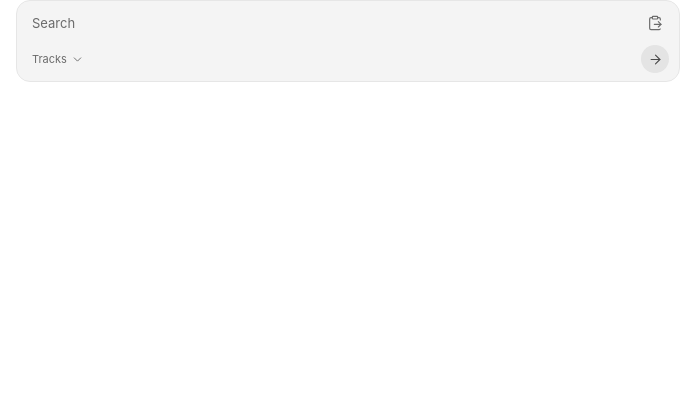
Test: DeezerPage searching › shows the empty state when nothing is found
Type "zzz" into the field named "Search query". click: point(332, 23)
box: [32,9,633,37]
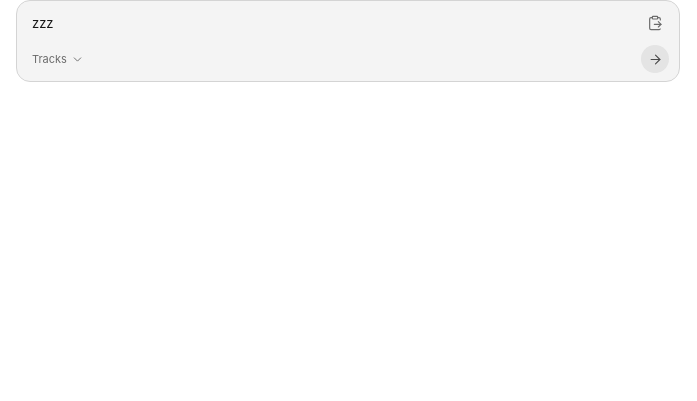
Click the button named "Search". click: point(655, 59)
box: [641,45,669,73]
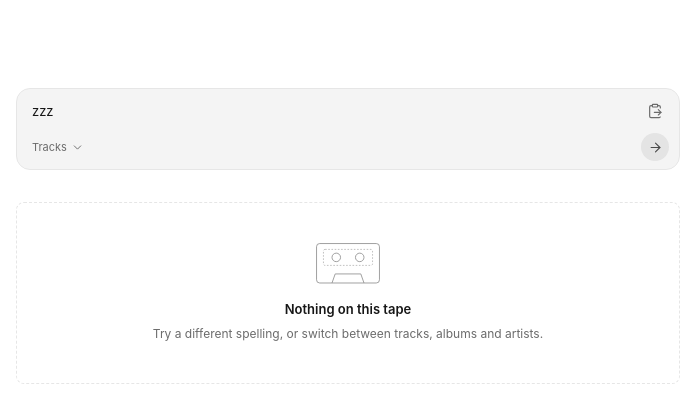
Check: the text "Nothing on this tape" is shown, box [285,300,411,319]
